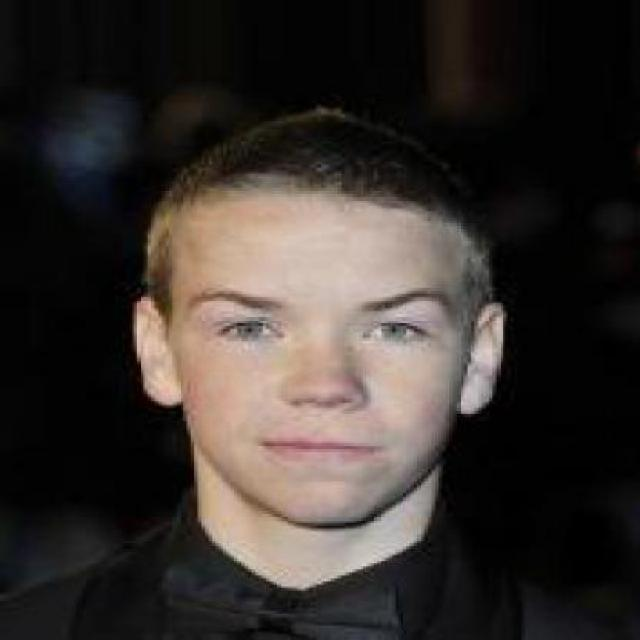closed-mouth: (267, 433, 377, 468)
